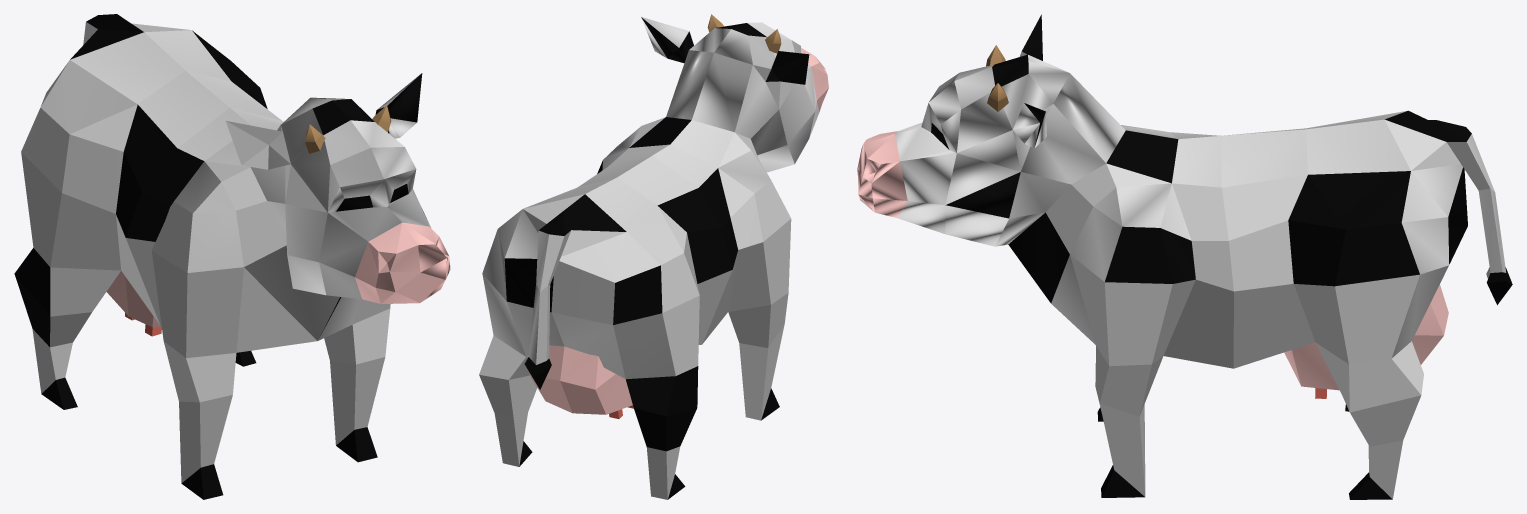
The model's file is cow.glb.
3 renders of one model, left to right at view 1: azimuth 30°, elevation 25°; view 2: azimuth 150°, elevation 25°; view 3: azimuth 270°, elevation 25°, orthographic. The views are drawn at different scales.
Parts seen in each view (by area): view 1: cow; view 2: cow; view 3: cow.
Part boxes in pixels (bbox=[...]): cow: bbox=[14, 14, 450, 499]; cow: bbox=[479, 14, 828, 499]; cow: bbox=[857, 14, 1512, 499].
Size of the model in its own units: 1.54 by 2.64 by 3.94.
